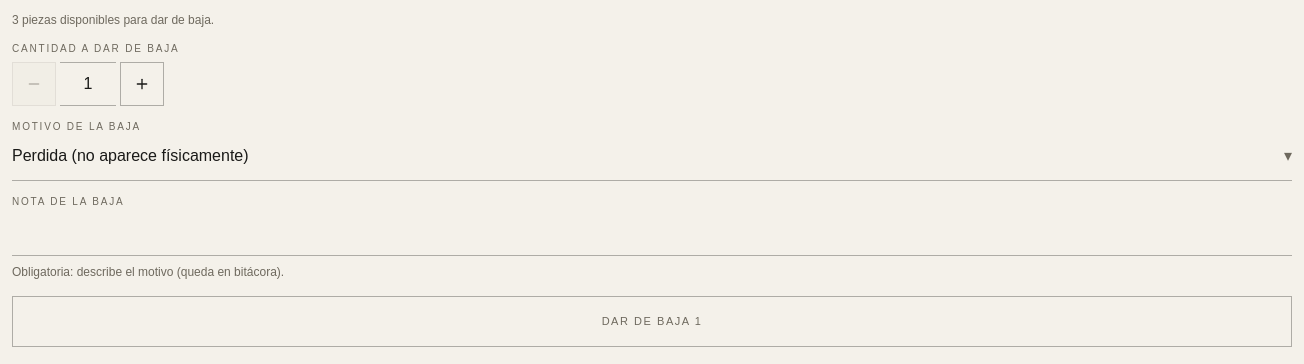
Test: QuickRemoveSection (P-29) · baja rápida de inventario › multi-pieza (3): + sube 1→3 y se deshabilita en el tope; − baja 3→1 y se deshabilita en el piso
expect the button named "Restar uno" is disabled: met, box [12,62,56,106]
Click the button named "Sumar uno": (142, 84) [120,62,164,106]
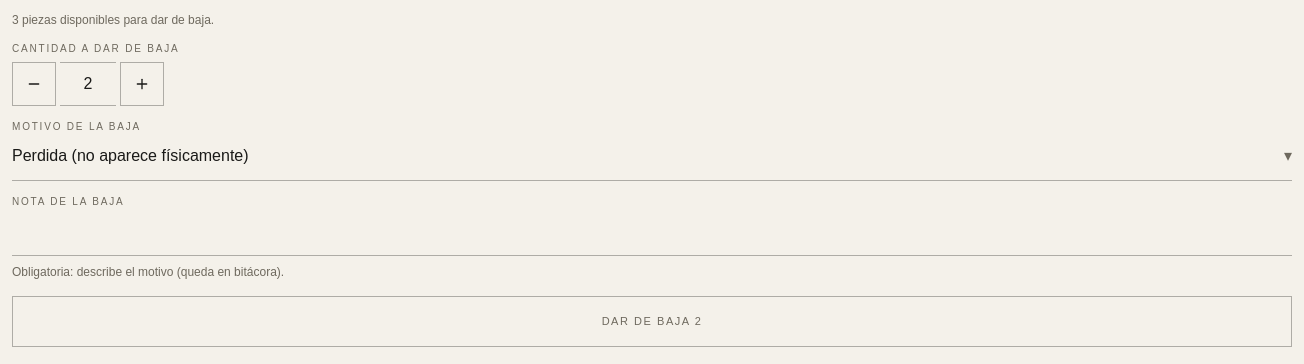
expect the button named "Restar uno" is enabled: met, box [12,62,56,106]
expect the field named "Cantidad a dar de baja" holds "2": met, box [60,62,116,106]
Click the button named "Sumar uno": (142, 84) [120,62,164,106]
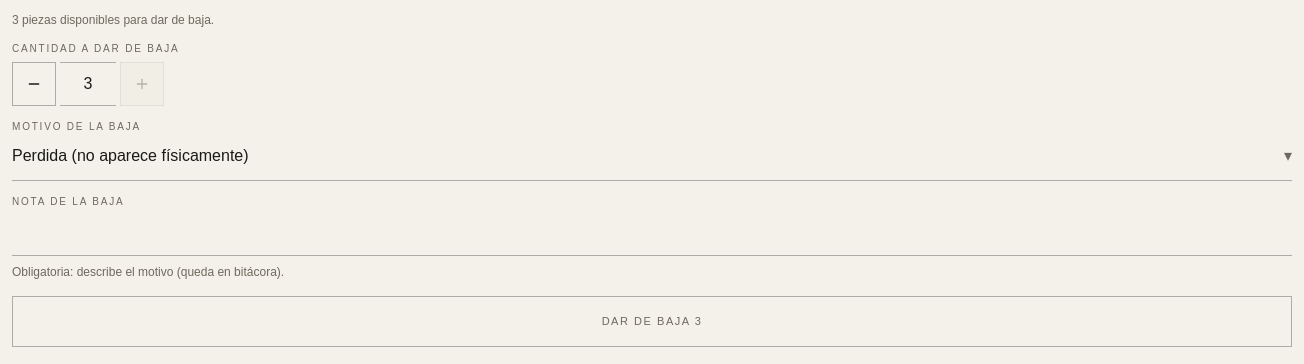
expect the field named "Cantidad a dar de baja" holds "3": met, box [60,62,116,106]
expect the button named "Sumar uno" is disabled: met, box [120,62,164,106]
Click the button named "Restar uno": (34, 84) [12,62,56,106]
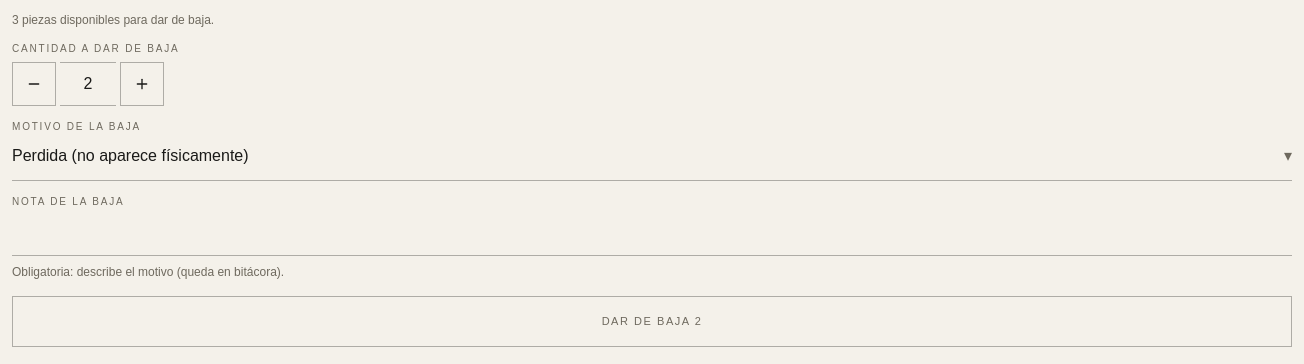
expect the field named "Cantidad a dar de baja" holds "2": met, box [60,62,116,106]
expect the button named "Sumar uno" is enabled: met, box [120,62,164,106]
Click the button named "Restar uno": (34, 84) [12,62,56,106]
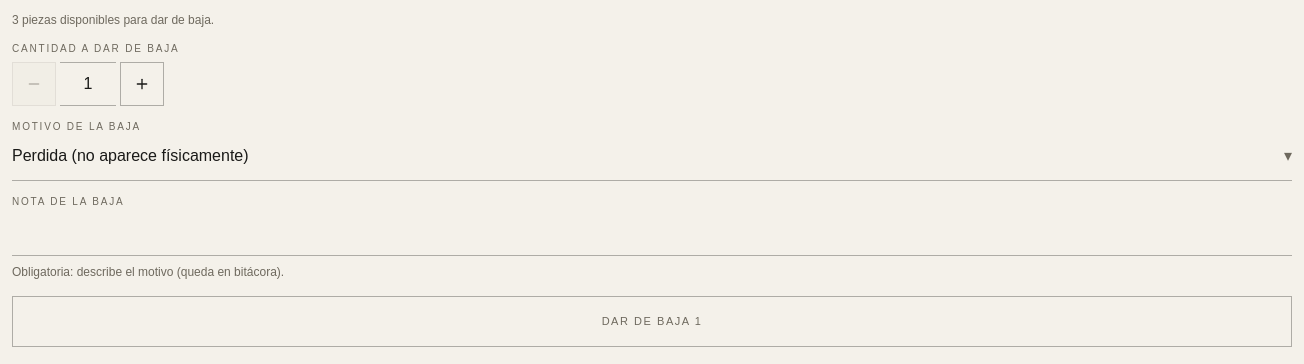
expect the field named "Cantidad a dar de baja" holds "1": met, box [60,62,116,106]
